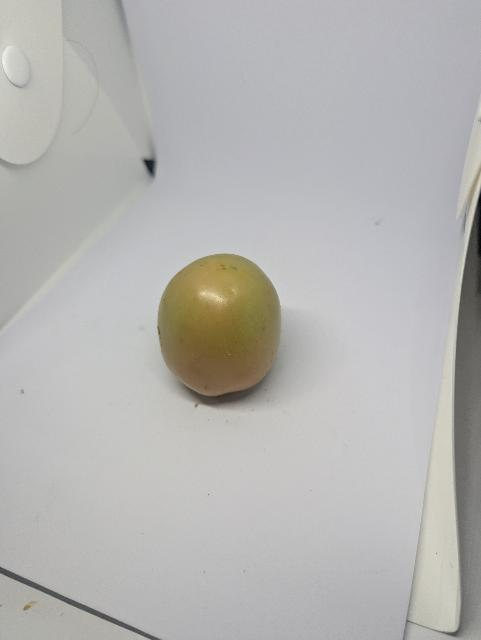breaker: (153, 247, 295, 407)
